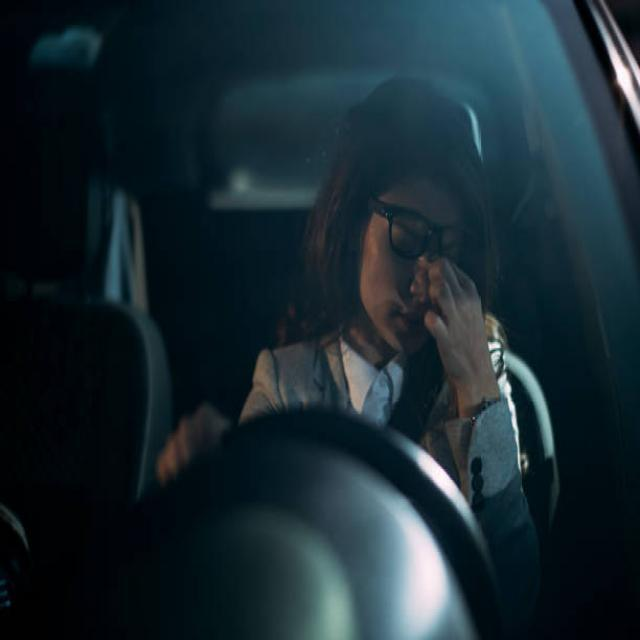seatbelt: (388, 171, 536, 433)
